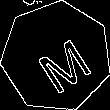M_NW: (23, 23, 89, 90)
